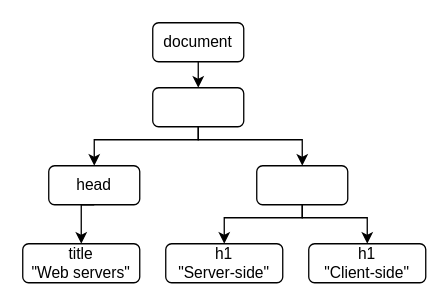
This 448x306 diagram has some shape labels left out. The shapes that lost their labels are listed below. From the top down, each one's box as (x1, y1, x2, y2) in pixels, then its label:
(151, 86, 244, 127): html
(255, 164, 348, 205): body
